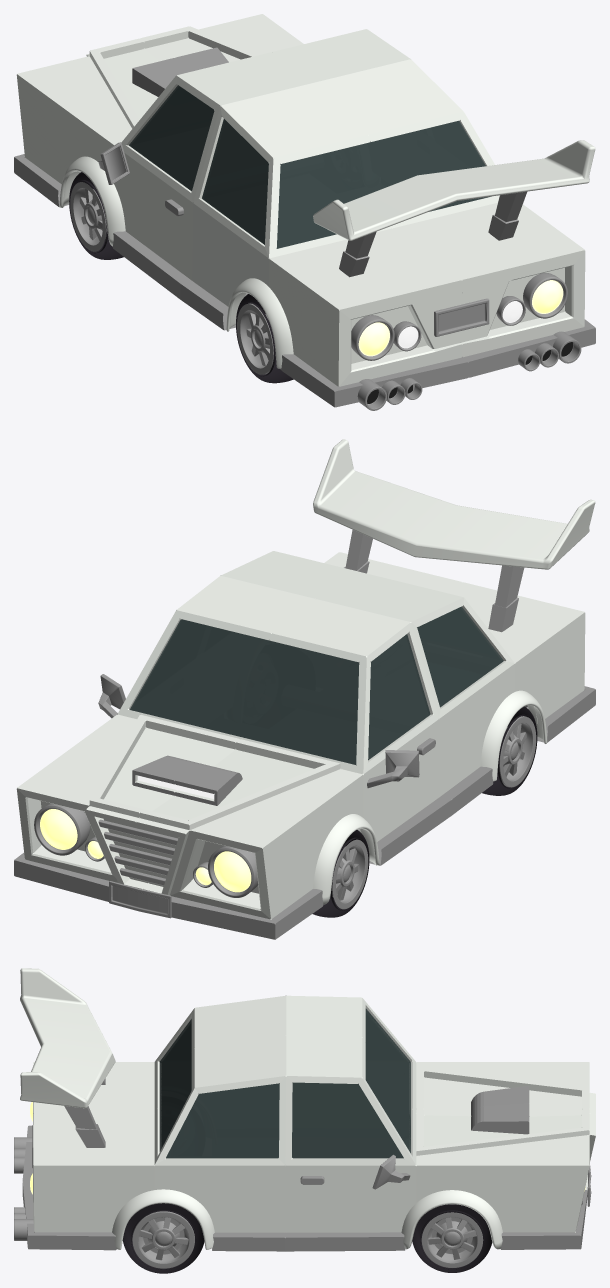
The model's file is car.glb.
The picture shows the model from 3 angles, top to bottom: view 1: azimuth 30°, elevation 25°; view 2: azimuth 150°, elevation 25°; view 3: azimuth 270°, elevation 25°; orthographic projection. The views are drawn at different scales.
Parts seen in each view (by area): view 1: 1 车身, 4 玻璃2, 1 尾翼上, 2 后车灯, 6 排气口, 3 后轮, 3 前轮, 1 尾翼下, 1 后轮胎罩, 1 前轮胎罩, 4 后车牌, 4 后视镜; view 2: 1 车身, 4 玻璃2, 1 尾翼上, 2 前车灯, 3 后轮, 3 前轮, 5 进风口, 1 尾翼下, 1 前轮胎罩, 1 后轮胎罩, 4 后视镜, 3 前车牌; view 3: 1 车身, 4 玻璃2, 1 尾翼上, 3 后轮, 3 前轮, 1 前轮胎罩, 1 后轮胎罩, 1 尾翼下, 6 排气口, 4 后视镜.
Boxes of the visible parts, box(x1,y1,x2,y2) form: 1 车身: box(14, 14, 595, 407); 4 玻璃2: box(129, 85, 491, 248); 1 尾翼上: box(313, 140, 595, 240); 2 后车灯: box(351, 273, 567, 360); 6 排气口: box(357, 331, 581, 410); 3 后轮: box(236, 294, 293, 383); 3 前轮: box(69, 172, 123, 259); 1 尾翼下: box(339, 191, 526, 277); 1 后轮胎罩: box(226, 278, 293, 368); 1 前轮胎罩: box(59, 156, 125, 246); 4 后车牌: box(434, 298, 489, 336); 4 后视镜: box(98, 142, 129, 184); 1 车身: box(14, 551, 595, 939); 4 玻璃2: box(130, 606, 503, 765); 1 尾翼上: box(313, 439, 595, 569); 2 前车灯: box(34, 803, 258, 897); 3 后轮: box(482, 706, 537, 795); 3 前轮: box(312, 830, 369, 917); 5 进风口: box(98, 819, 177, 885); 1 尾翼下: box(344, 530, 524, 632); 1 前轮胎罩: box(313, 814, 379, 904); 1 后轮胎罩: box(480, 690, 547, 781); 4 后视镜: box(98, 674, 419, 788); 3 前车牌: box(109, 881, 171, 918); 1 车身: box(22, 995, 595, 1251); 4 玻璃2: box(159, 1008, 410, 1158); 1 尾翼上: box(20, 968, 115, 1108); 3 后轮: box(122, 1203, 204, 1273); 3 前轮: box(412, 1204, 492, 1272); 1 前轮胎罩: box(401, 1190, 502, 1249); 1 后轮胎罩: box(112, 1189, 214, 1249); 1 尾翼下: box(64, 1078, 105, 1147); 6 排气口: box(14, 1137, 33, 1240); 4 后视镜: box(372, 1154, 410, 1189).
Size of the model in its own units: 2.89 by 2.04 by 5.31.
